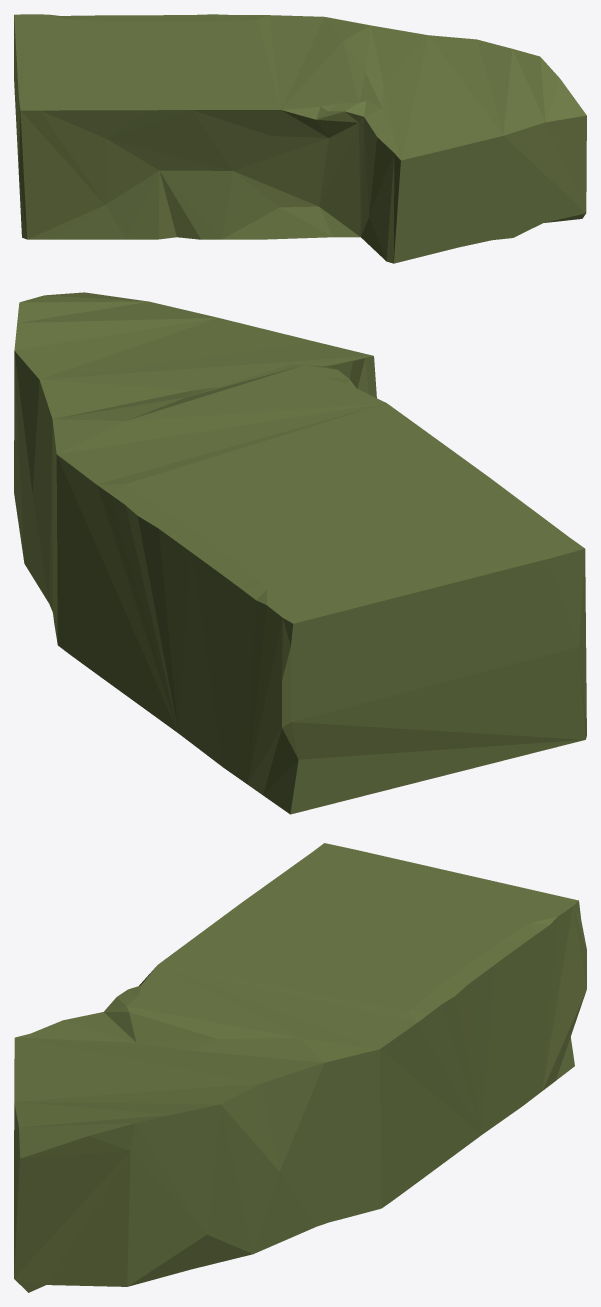
The model's file is ground_19.fbx.
3 views of the same model, one above another, from view 1: azimuth 30°, elevation 25°; view 2: azimuth 150°, elevation 25°; view 3: azimuth 270°, elevation 25° (orthographic). The views are drawn at different scales.
Visible parts, largest first — view 1: ground_19; view 2: ground_19; view 3: ground_19.
Boxes of the visible parts, x1,y1,x2,y2 form: ground_19: (14, 14, 586, 263); ground_19: (14, 292, 586, 814); ground_19: (14, 843, 586, 1292).
Bounding box in the file's own units: 11.12 × 3.16 × 9.6.
